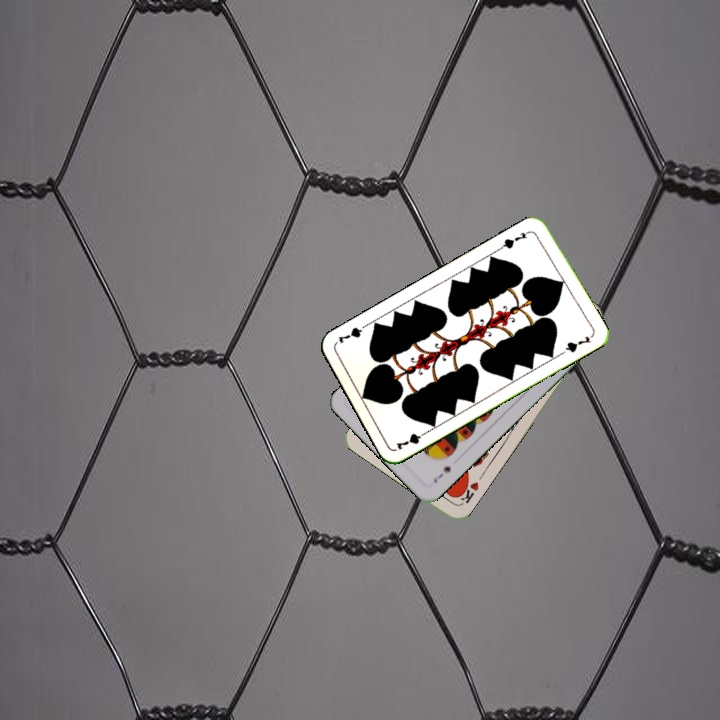G7: (391, 427, 431, 453), (496, 227, 533, 252)
HK: (453, 476, 481, 507)
S7: (429, 462, 453, 485)
